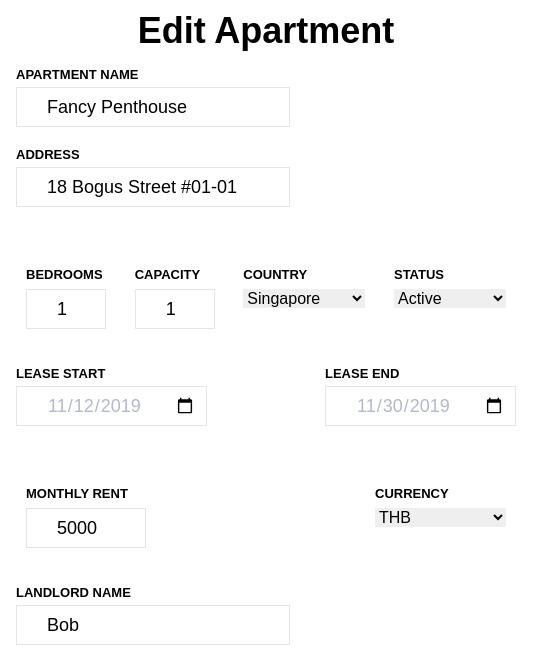
EditApartmentForm › Change form values › should not be able to update Status to Inactive if there are occupants
Select "Inactive" in the dropdown with test id "editApartment__status" at coordinates (450, 298), box [394,289,506,308]
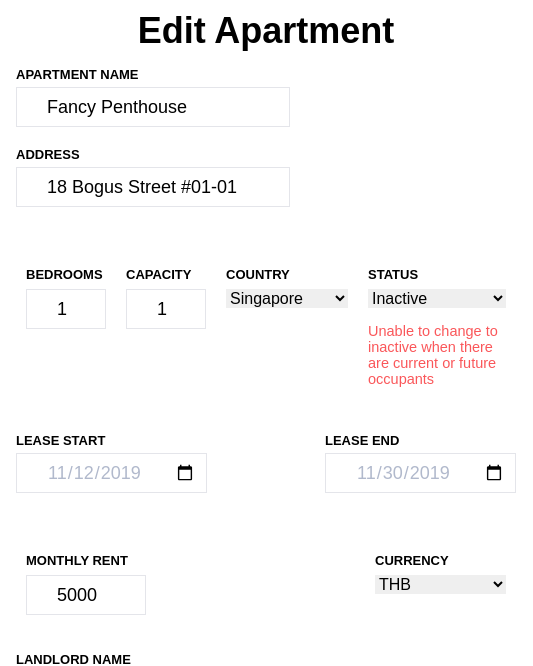
Result: the text "Unable to change to inactive when there are current or future occupants" is shown at [368,322,506,386]
